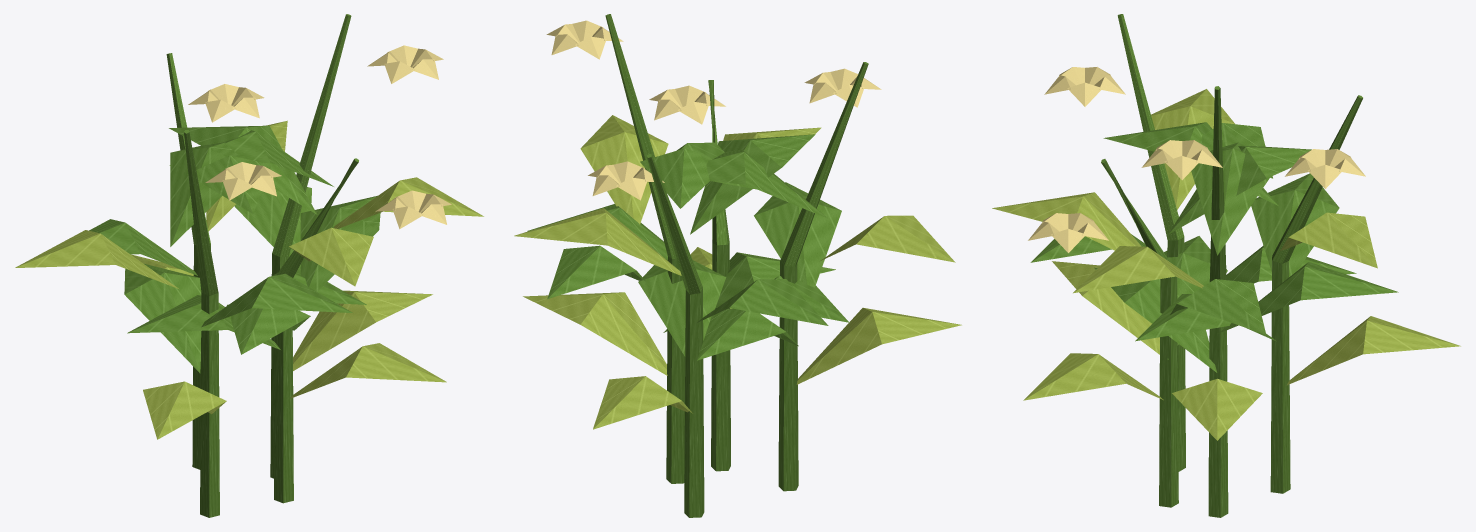
File: crop-herbs-flowering.glb
3 renders of one model, left to right at view 1: azimuth 30°, elevation 25°; view 2: azimuth 150°, elevation 25°; view 3: azimuth 270°, elevation 25°, orthographic. The views are drawn at different scales.
Parts seen in each view (by area): view 1: crop-herbs-flowering; view 2: crop-herbs-flowering; view 3: crop-herbs-flowering.
Boxes of the visible parts, x1,y1,x2,y2 form: crop-herbs-flowering: (15,14,483,517); crop-herbs-flowering: (514,14,961,517); crop-herbs-flowering: (992,14,1460,517).
Size of the model in its own units: 0.6494 by 0.6512 by 0.6023.
Materials: 1 (1 with a texture image).
